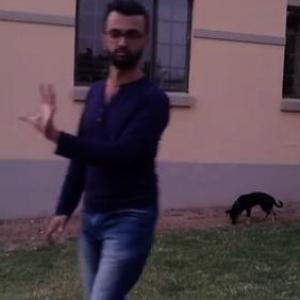follow_hand: (15, 79, 65, 135)
